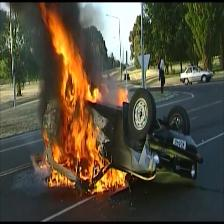fire: (37, 1, 148, 199), (7, 3, 66, 104)
